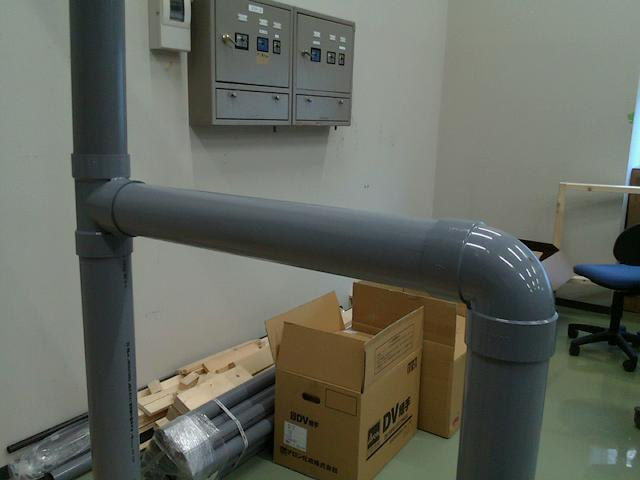bent: (418, 216, 558, 361)
junction: (70, 155, 150, 260)
